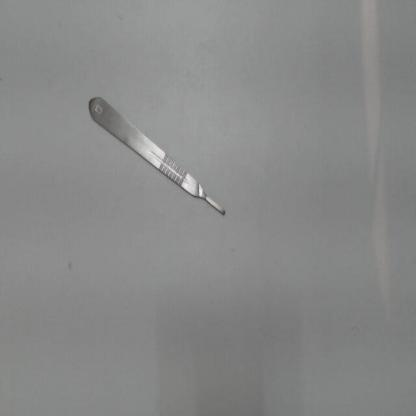No.3 BP Handle: (82, 84, 237, 238)
